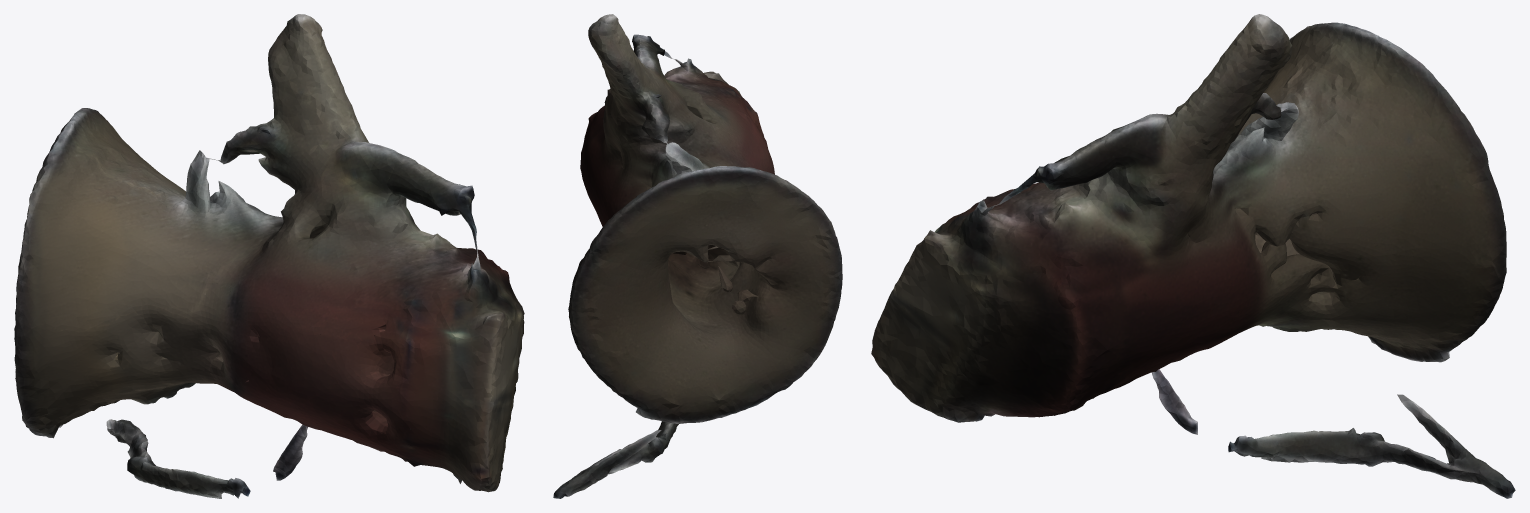
File: IMG_SEG_33.glb
3 views of the same model, side by side, from view 1: azimuth 30°, elevation 25°; view 2: azimuth 150°, elevation 25°; view 3: azimuth 270°, elevation 25° (orthographic). The views are drawn at different scales.
Size of the model in its own units: 0.8471 by 0.9823 by 1.12.
1 material, 1 textured.
